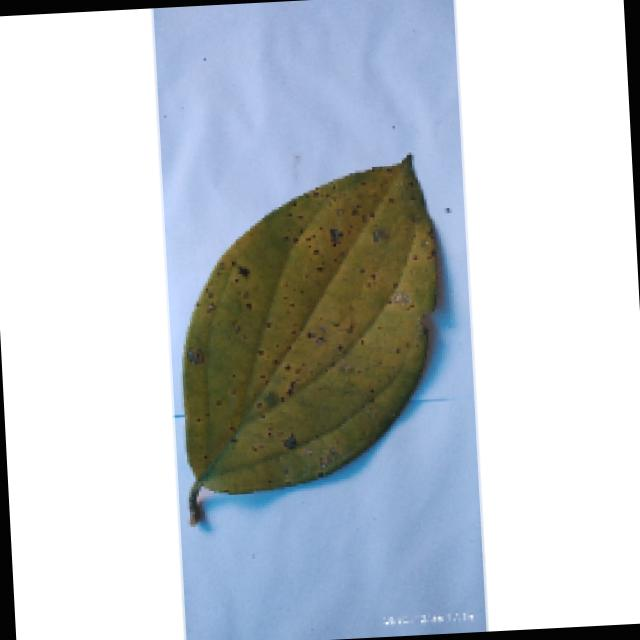slow-decline: (159, 144, 460, 526)
